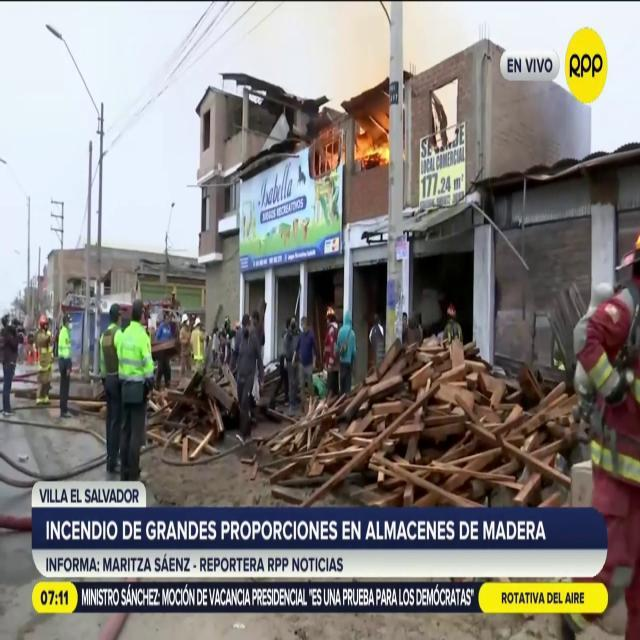Fire: (353, 115, 391, 168), (178, 423, 218, 461)
